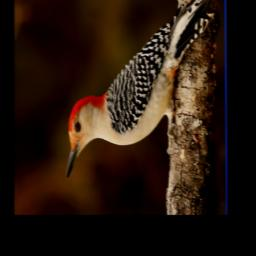Woodpecker: (64, 0, 221, 178)
